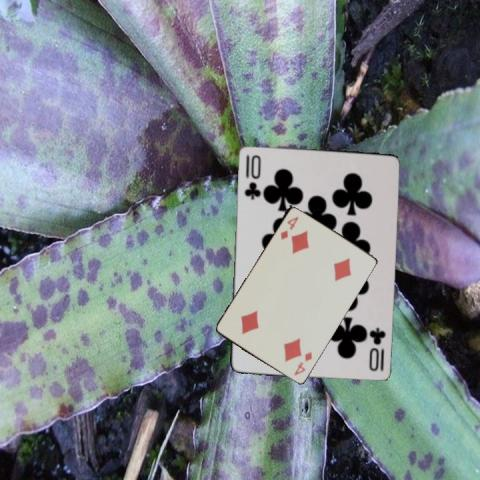10c: (241, 151, 262, 201), (366, 324, 387, 372)
4d: (277, 214, 300, 241), (291, 350, 313, 378)
